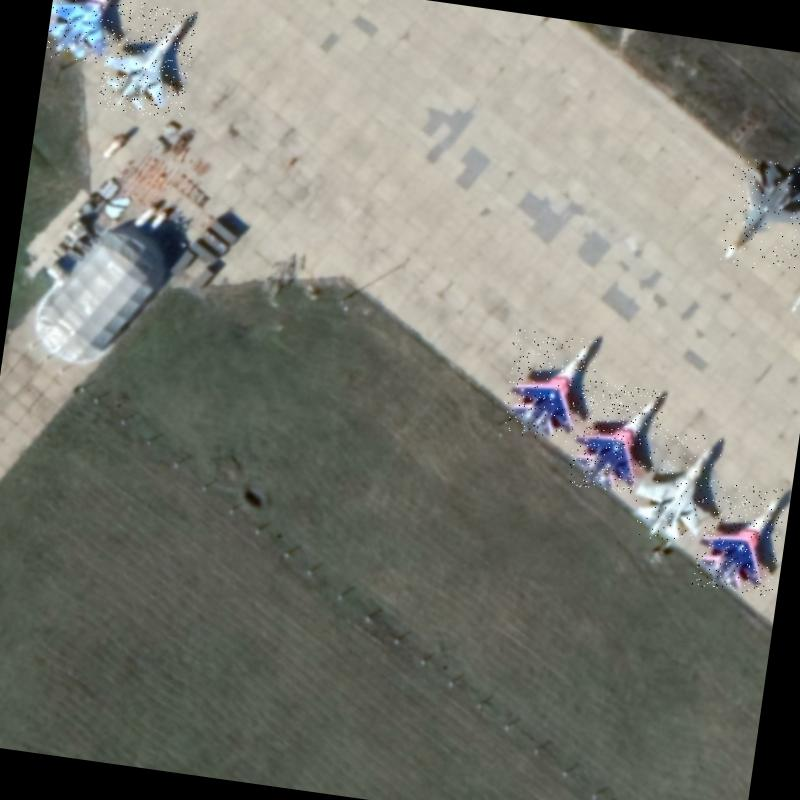A1: (94, 0, 198, 120), (626, 426, 724, 546), (500, 328, 600, 445), (567, 379, 666, 497), (691, 478, 786, 596), (45, 0, 148, 68)
A19: (718, 153, 800, 274)
